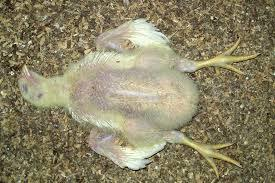AbNormal: (15, 20, 263, 172)
